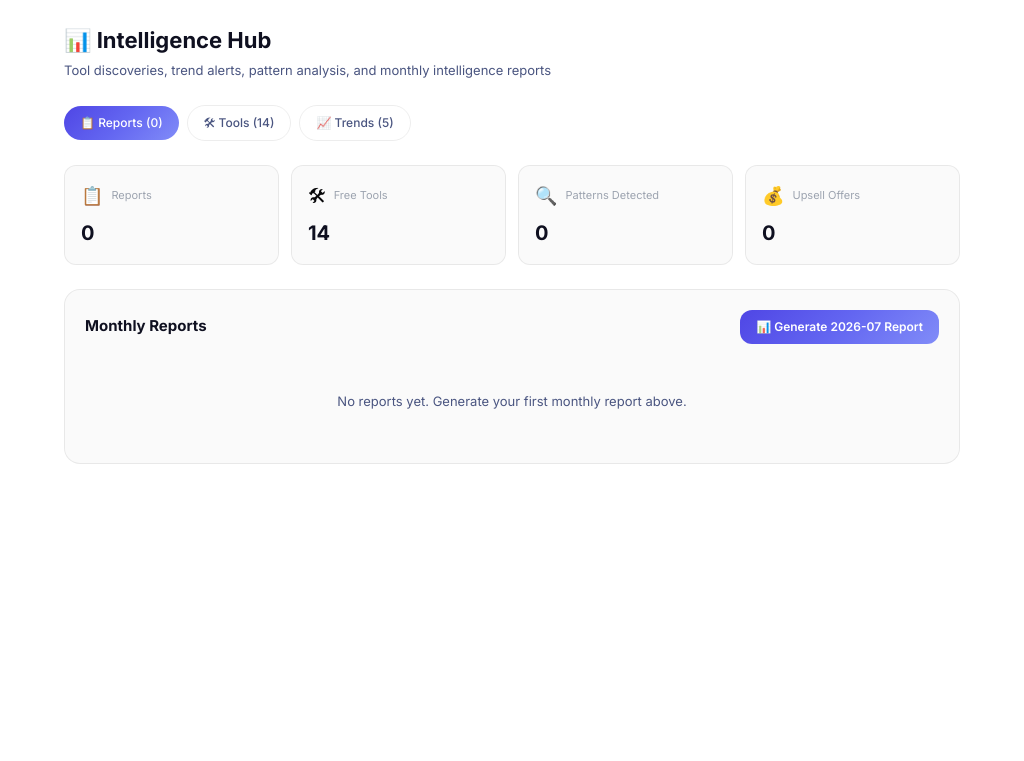
Test: IntelligenceReportsPanel › trends tab shows trend alerts
Click the button "📈 Trends (5)". click: (355, 122)
box: [299,104,411,140]
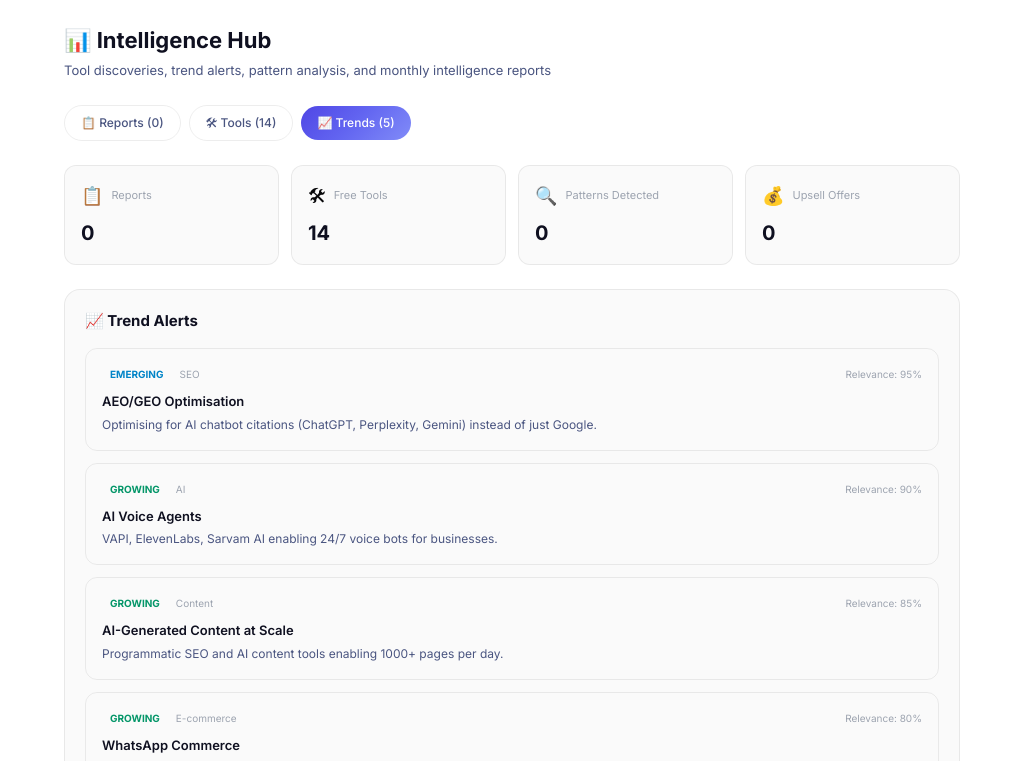
Now the heading "📈 Trend Alerts" is shown, box [85,310,198,330]
